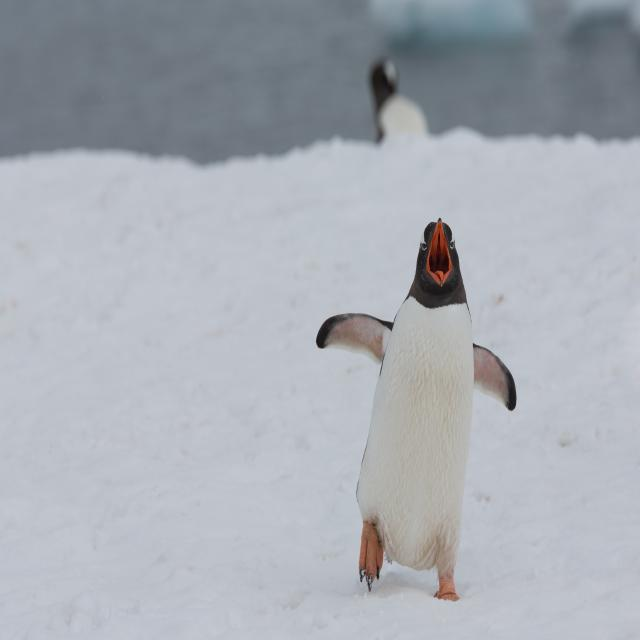Penguins: (350, 207, 491, 608)
